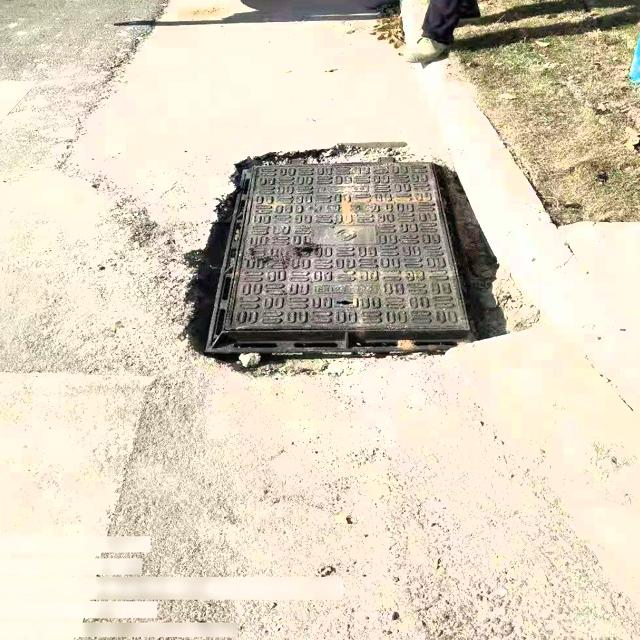circle: (184, 151, 511, 369)
